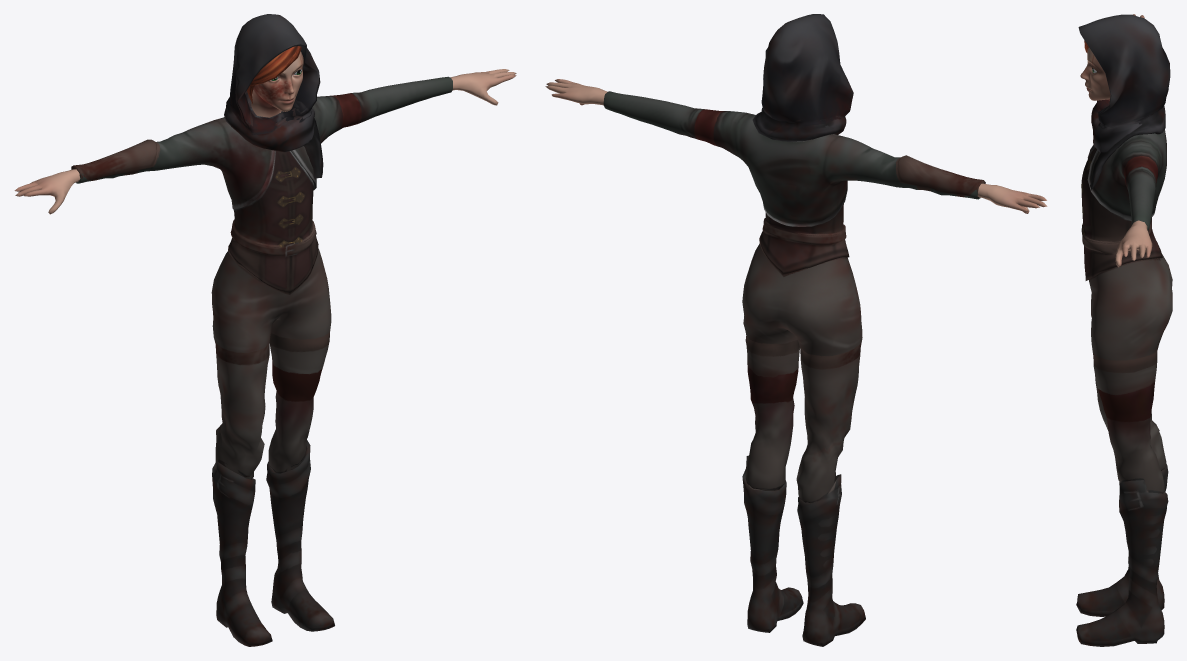
The model's file is character_ready.fbx.
3 views of the same model, side by side, from view 1: azimuth 30°, elevation 25°; view 2: azimuth 150°, elevation 25°; view 3: azimuth 270°, elevation 25° (orthographic).
Parts seen in each view (by area): view 1: Hood1; view 2: Hood1; view 3: Hood1.
Boxes of the visible parts, x1,y1,x2,y2 form: Hood1: (14, 14, 516, 646); Hood1: (545, 14, 1047, 646); Hood1: (1076, 14, 1172, 646).
Bounding box in the file's own units: 15.8 × 18.23 × 2.62.
